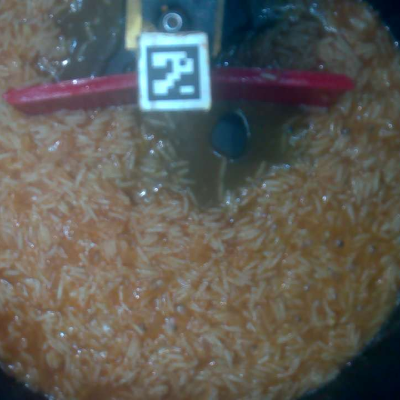stirrer: (116, 1, 234, 114)
